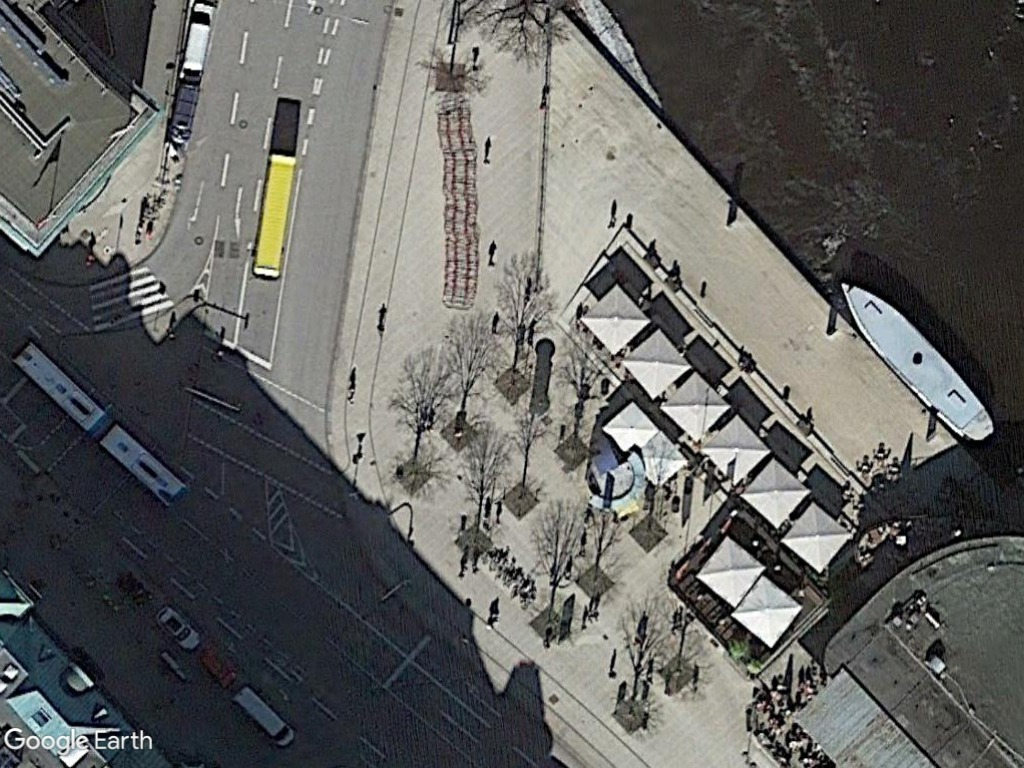boat: (837, 272, 995, 445)
bus: (9, 337, 110, 437), (94, 422, 191, 511), (249, 147, 302, 285)
car: (151, 603, 204, 653)
van: (229, 683, 300, 751)
